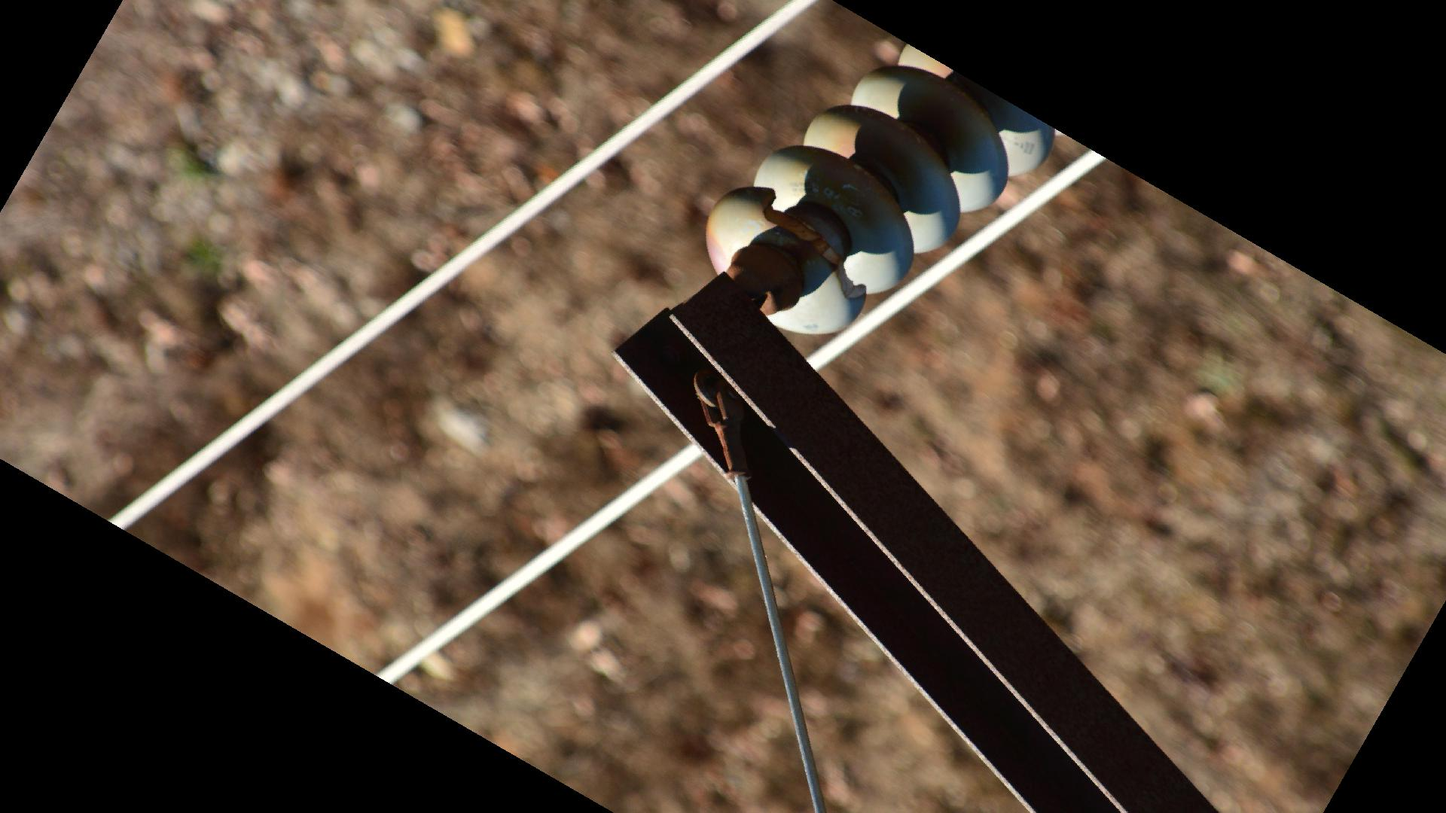insulator: (694, 37, 1062, 344)
insulator_breakage: (751, 183, 872, 309)
